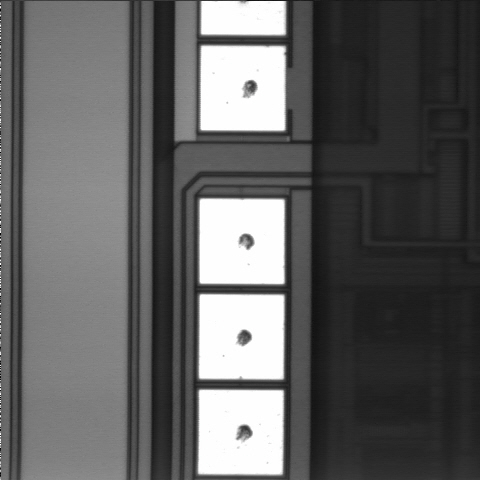pad: (199, 294, 284, 379), (198, 390, 283, 475), (201, 46, 285, 131), (200, 199, 284, 284)
